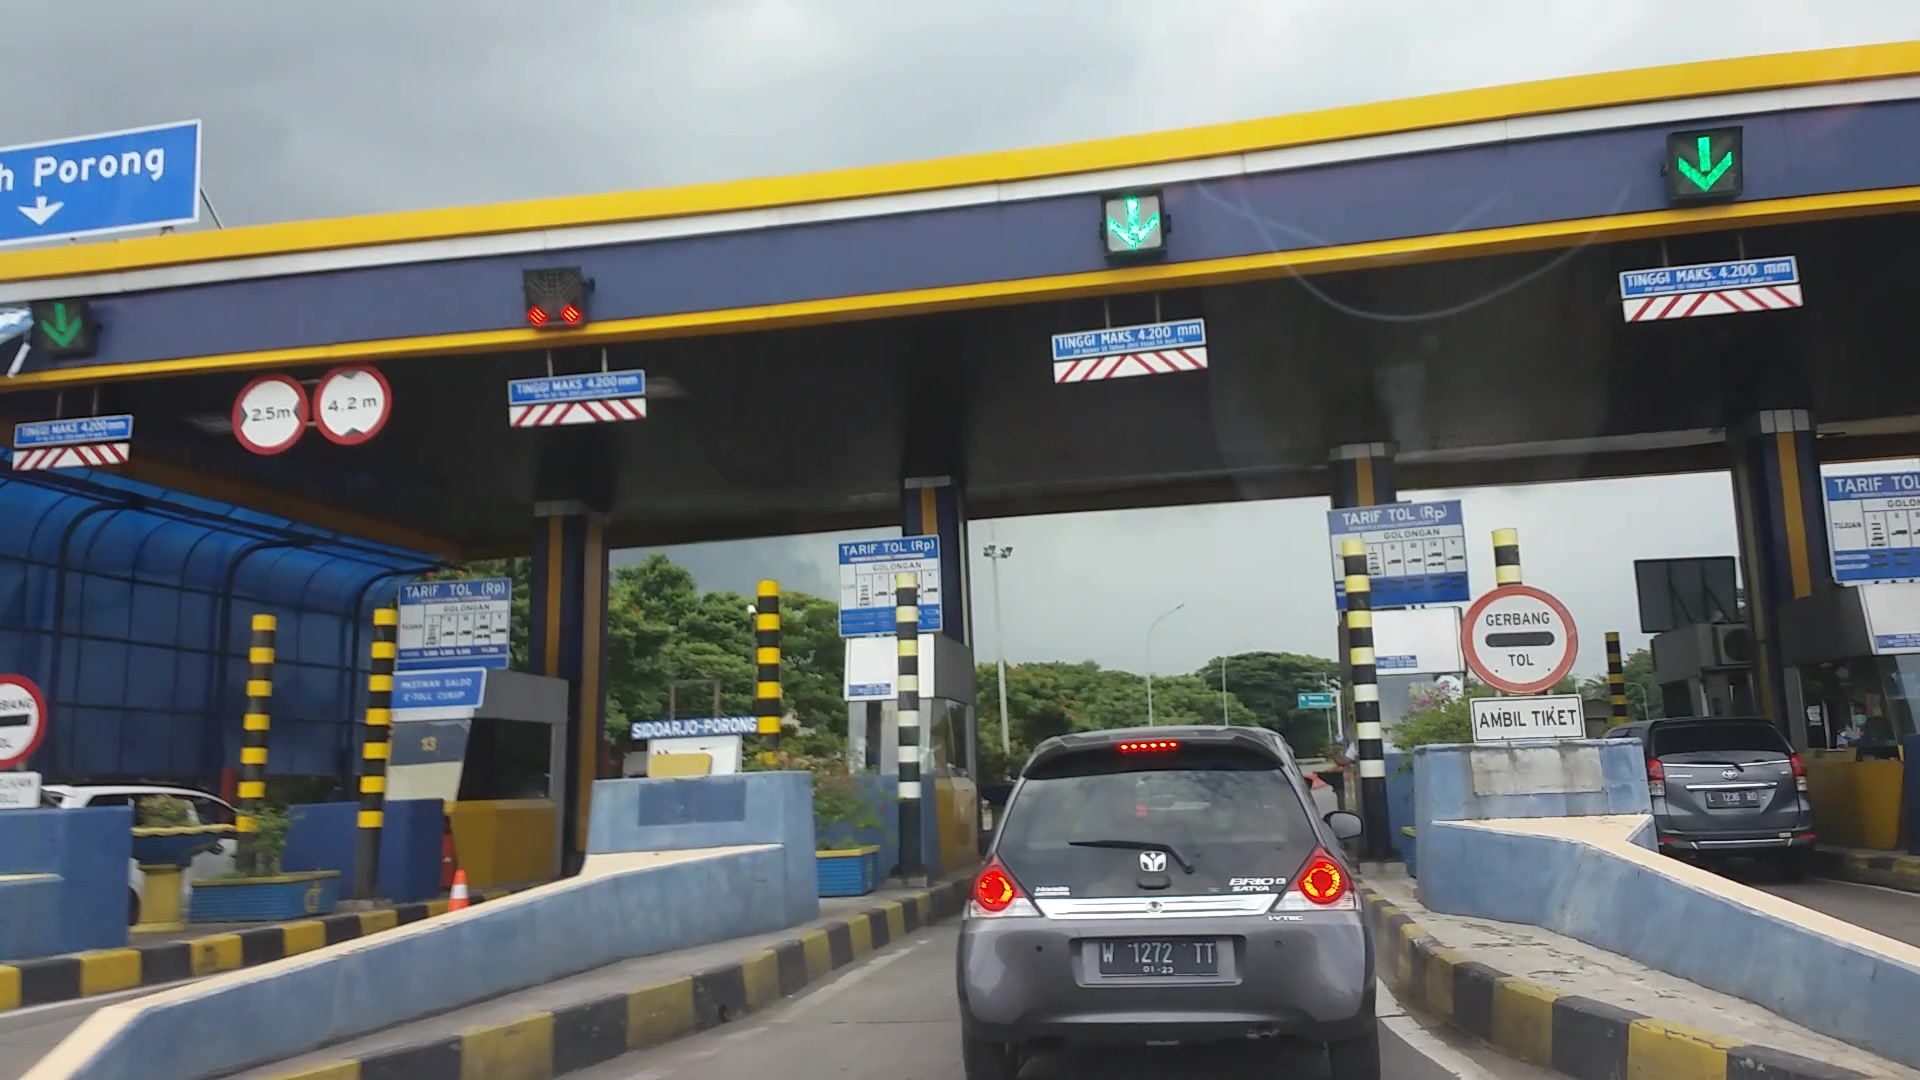plate_positive: (1098, 938, 1217, 976)
